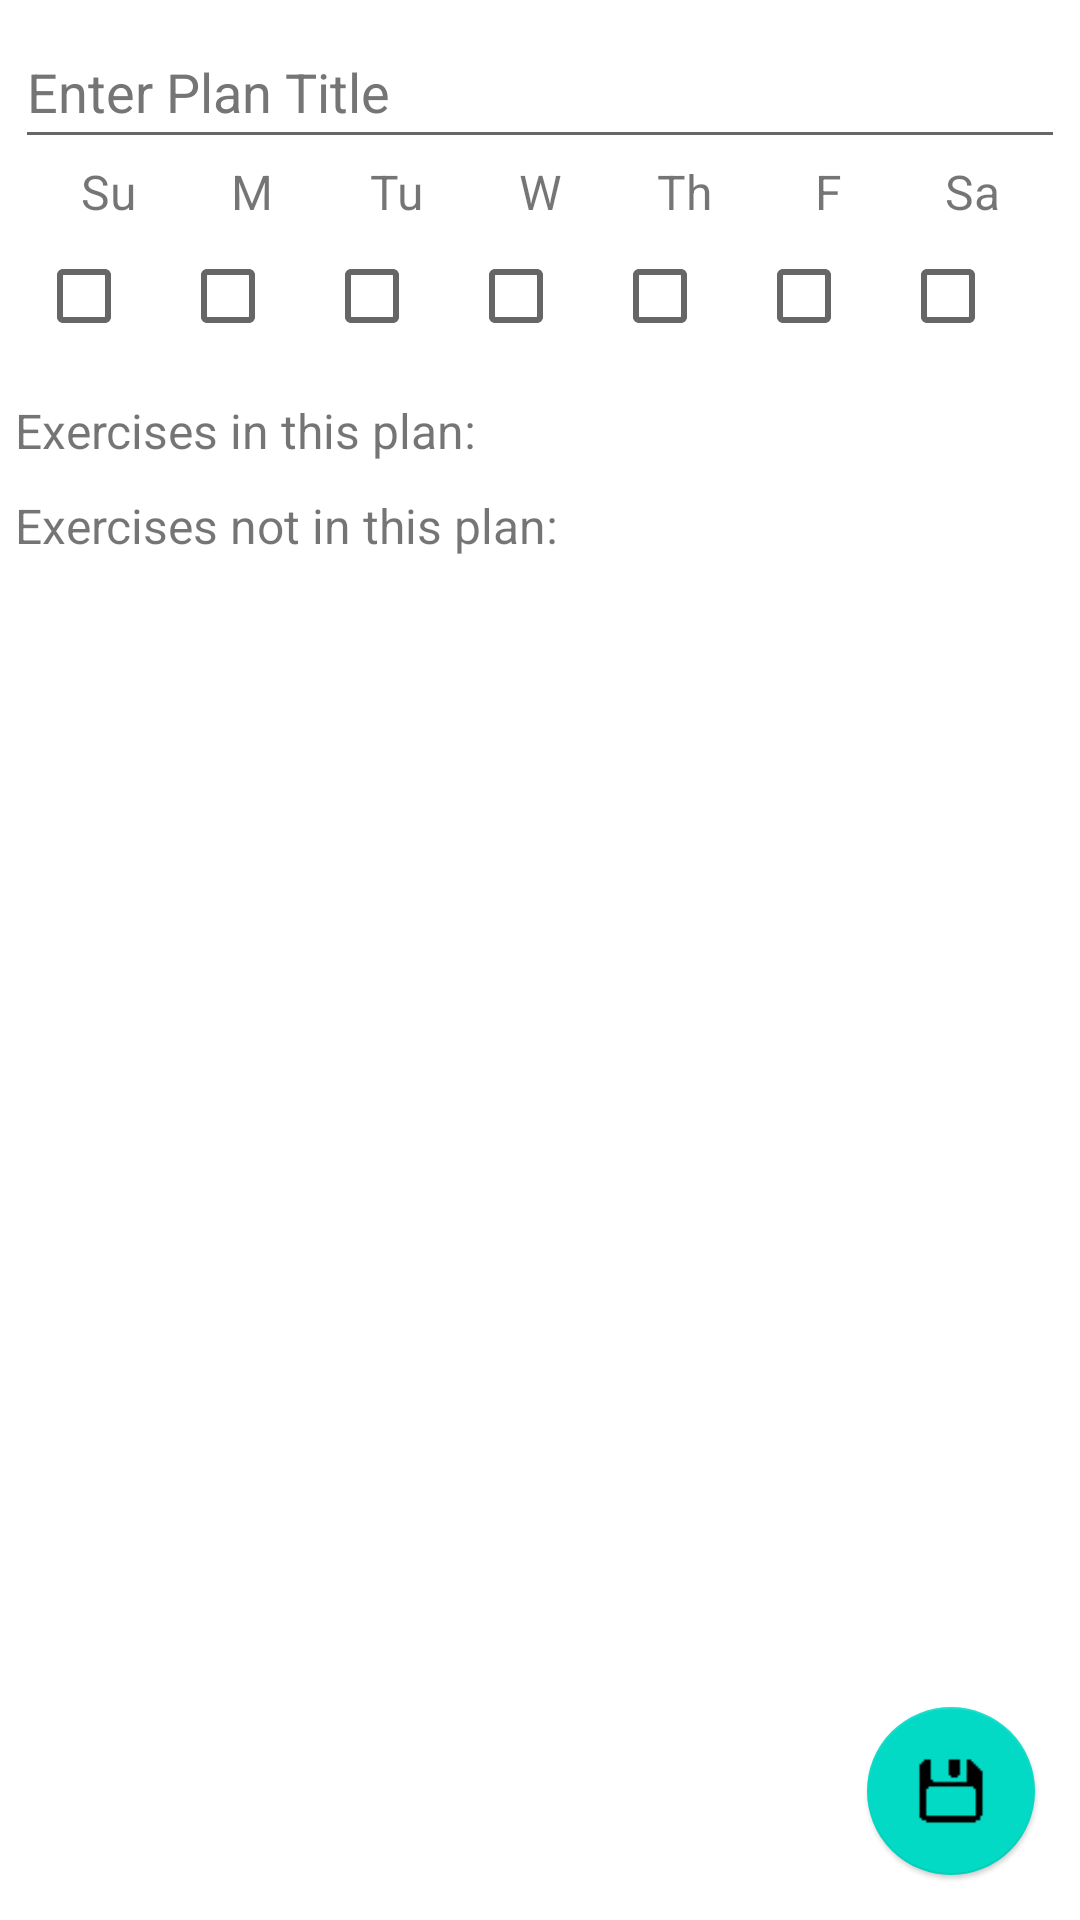

Named icons in this screenshot (1080 × 1920) and their bounding boxes, (x1, y1, x2, y2):
Save Plan: (867, 1707, 1035, 1875)
